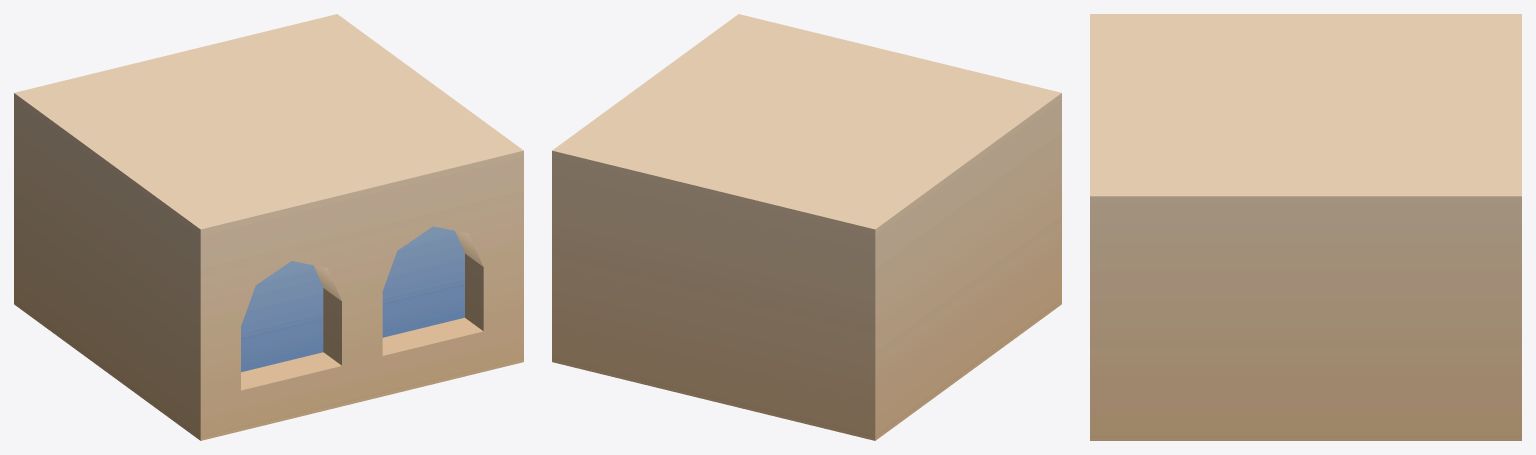
File: building-windows-round.glb
3 renders of one model, left to right at view 1: azimuth 30°, elevation 25°; view 2: azimuth 150°, elevation 25°; view 3: azimuth 270°, elevation 25°, orthographic. The views are drawn at different scales.
Visible parts, largest first — view 1: building-windows-round; view 2: building-windows-round; view 3: building-windows-round.
Boxes of the visible parts, x1,y1,x2,y2 form: building-windows-round: [14, 14, 523, 440]; building-windows-round: [552, 14, 1061, 440]; building-windows-round: [1090, 14, 1521, 440].
Bounding box in the file's own units: 1 × 0.625 × 1.
Materials: 1 (1 with a texture image).
